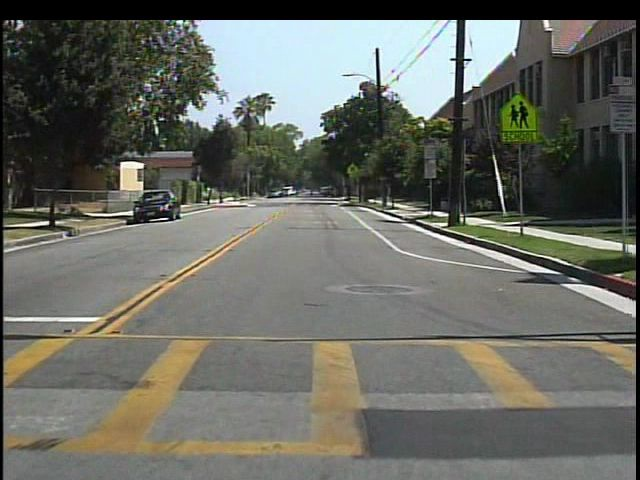person: (305, 184, 319, 202)
